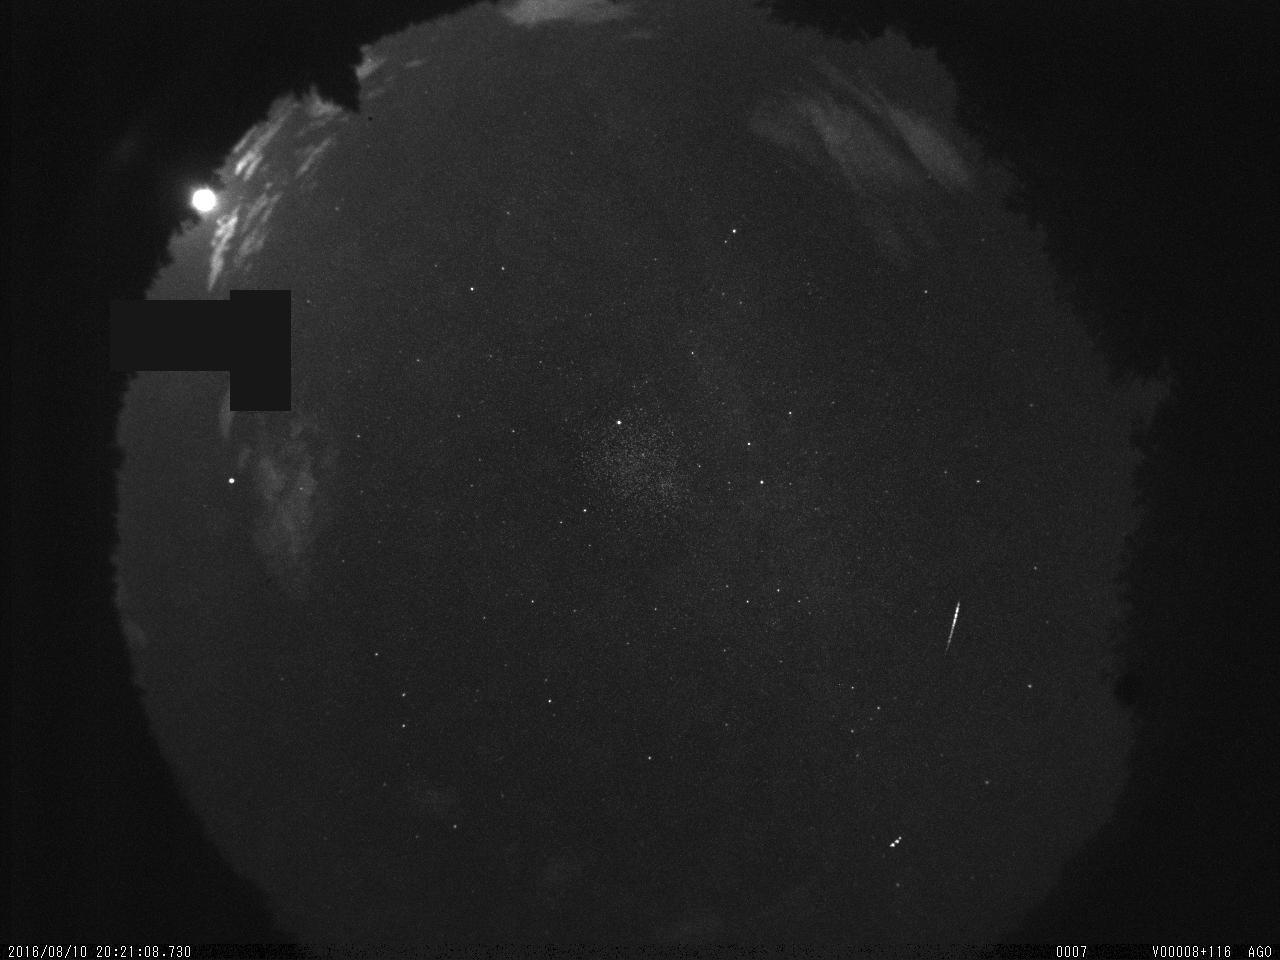meteor: (937, 590, 969, 655)
satelite: (884, 825, 909, 853)
